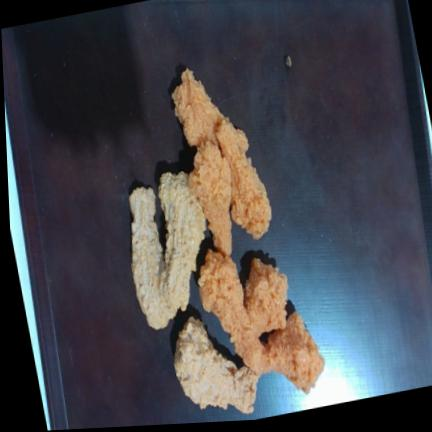chicken: (198, 248, 267, 374), (174, 316, 257, 413), (129, 186, 182, 328), (216, 117, 271, 238), (158, 172, 206, 309), (189, 141, 231, 254)
